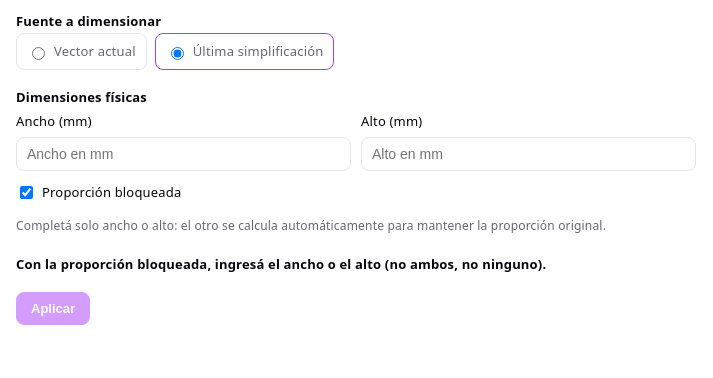
Test: DimensionPanel — selección de fuente › con una simplificación disponible, cambiar de fuente reinicia el resultado aplicado
Expected: the radio button labelled "Última simplificación" is checked, [171,47,184,60]
Type "100" into the number field labelled "Ancho (mm)".
click(184, 154); type("100")  # box [16,137,351,171]
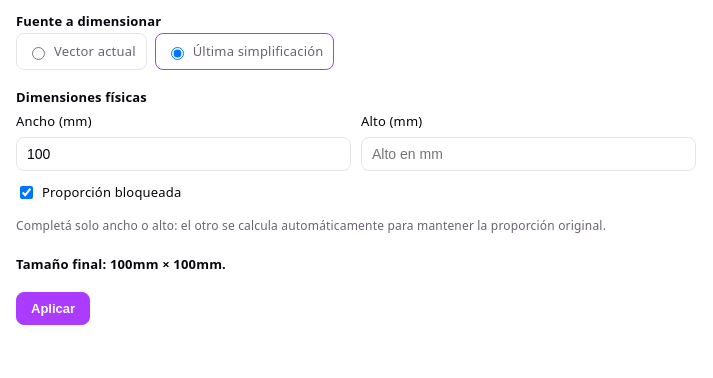
Click the button "Aplicar".
click(53, 309)  # box [16,292,90,325]
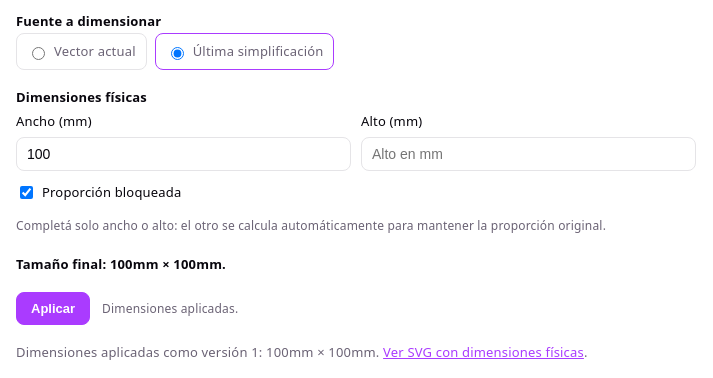
Result: the text "Dimensiones aplicadas como versión 1" is shown at [16,343,588,361]
Click the radio button labelled "Vector actual".
click(38, 53)  # box [32,47,45,60]
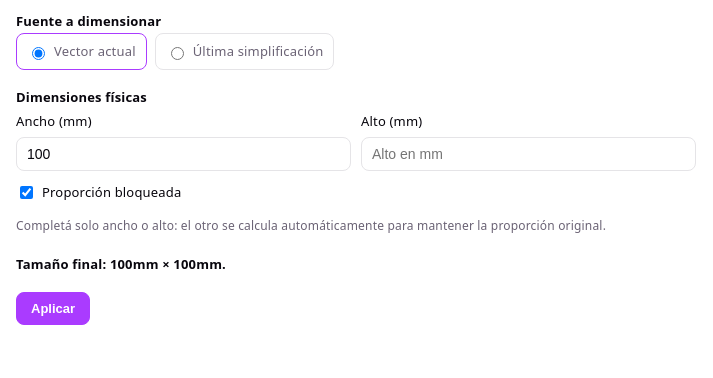
Result: the text "Dimensiones aplicadas como versión 1" is gone
